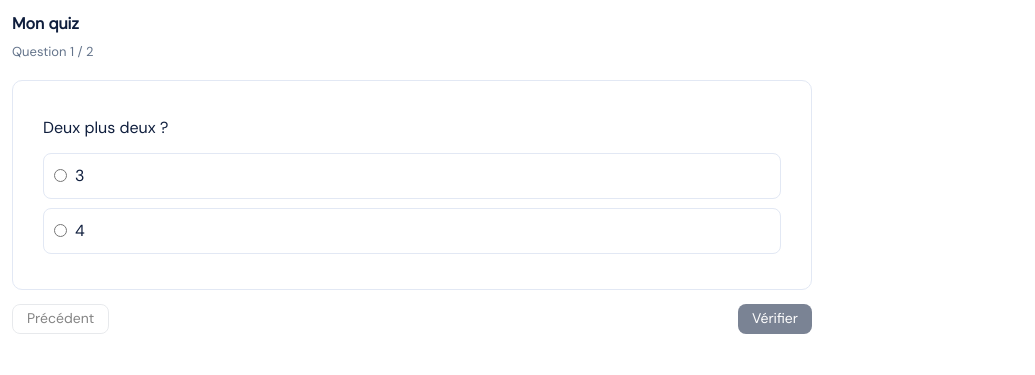
Test case: QuizPassageWeb page › submits the quiz and shows the score
expect the text "Deux plus deux ?" is shown: met, box x1=43 y1=116 x2=168 y2=138
Click the radio button labelled "4" at (60, 230), box x1=54 y1=224 x2=67 y2=237
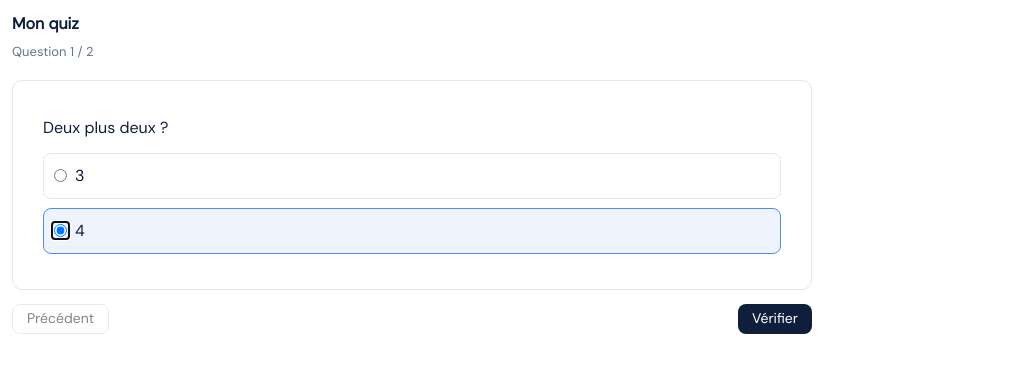
Click the button "Vérifier" at (775, 318), box x1=738 y1=304 x2=812 y2=334
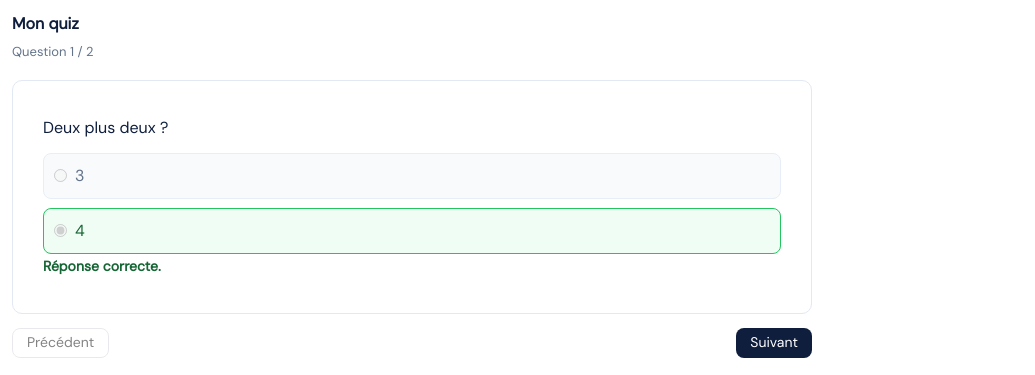
Click the button "Suivant" at (774, 342), box x1=736 y1=328 x2=812 y2=358
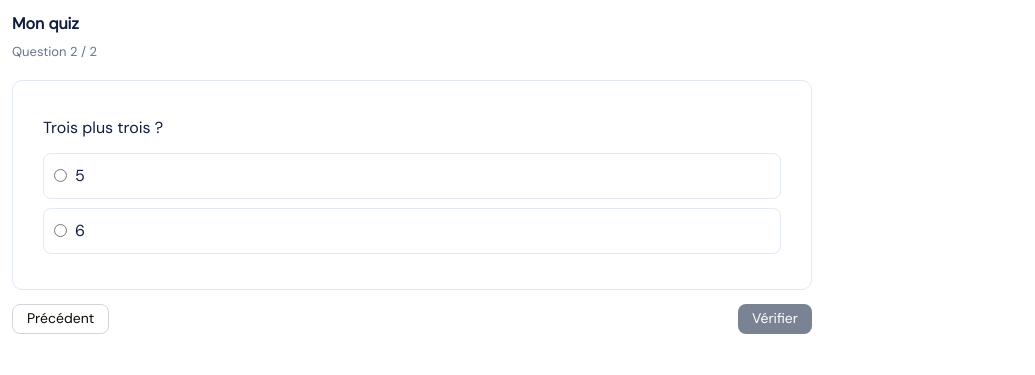
Click the radio button labelled "6" at (60, 230), box x1=54 y1=224 x2=67 y2=237
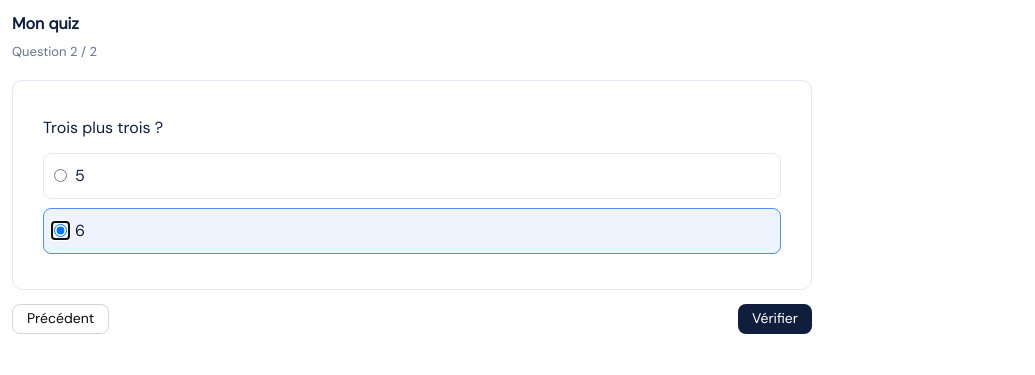
Click the button "Vérifier" at (775, 318), box x1=738 y1=304 x2=812 y2=334
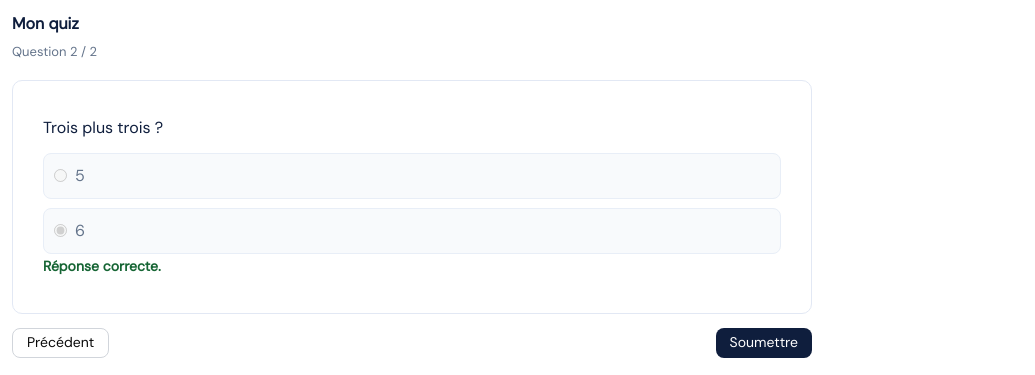
Click the button "Soumettre" at (764, 342), box x1=716 y1=328 x2=812 y2=358
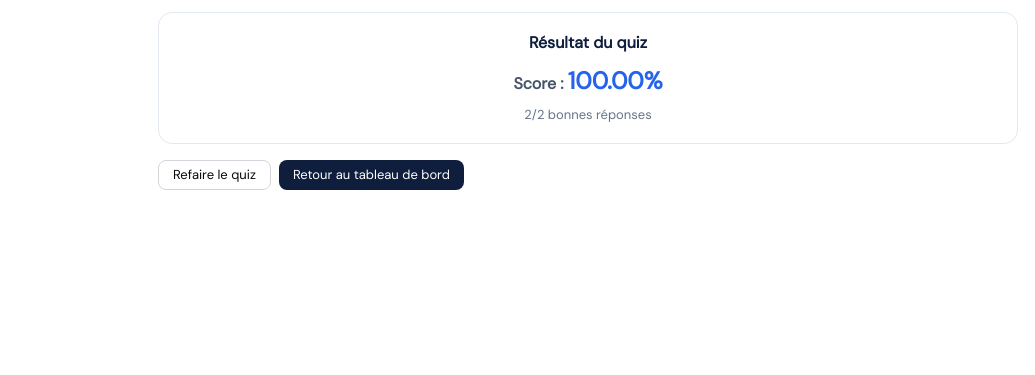
expect the heading "Résultat du quiz" is shown: met, box x1=529 y1=32 x2=647 y2=53
expect the text "100.00%" is shown: met, box x1=568 y1=65 x2=663 y2=96
